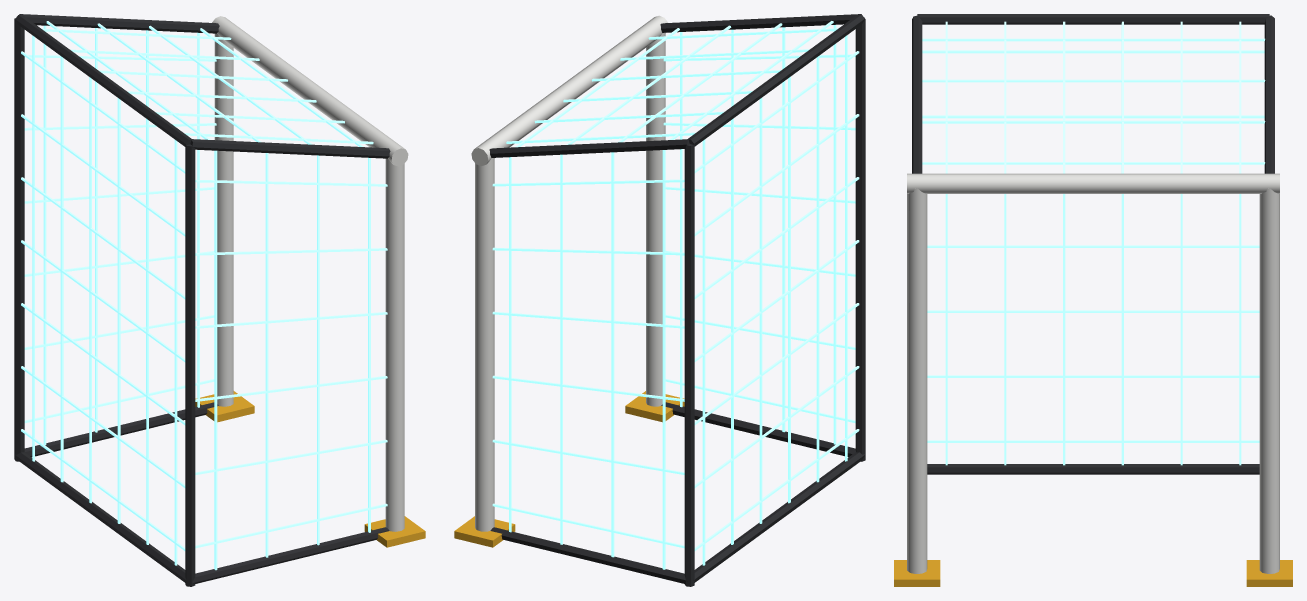
The model's file is Sport_Goal.glb.
3 views of the same model, side by side, from view 1: azimuth 30°, elevation 25°; view 2: azimuth 150°, elevation 25°; view 3: azimuth 270°, elevation 25° (orthographic). The views are drawn at different scales.
Visible parts, largest first — view 1: Sport_Goal; view 2: Sport_Goal; view 3: Sport_Goal.
Part boxes in pixels (x1,y1,x2,y2): Sport_Goal: (14, 14, 425, 586); Sport_Goal: (454, 14, 865, 586); Sport_Goal: (894, 14, 1292, 586).
Bounding box in the file's own units: 2.01 × 3.74 × 2.94.
